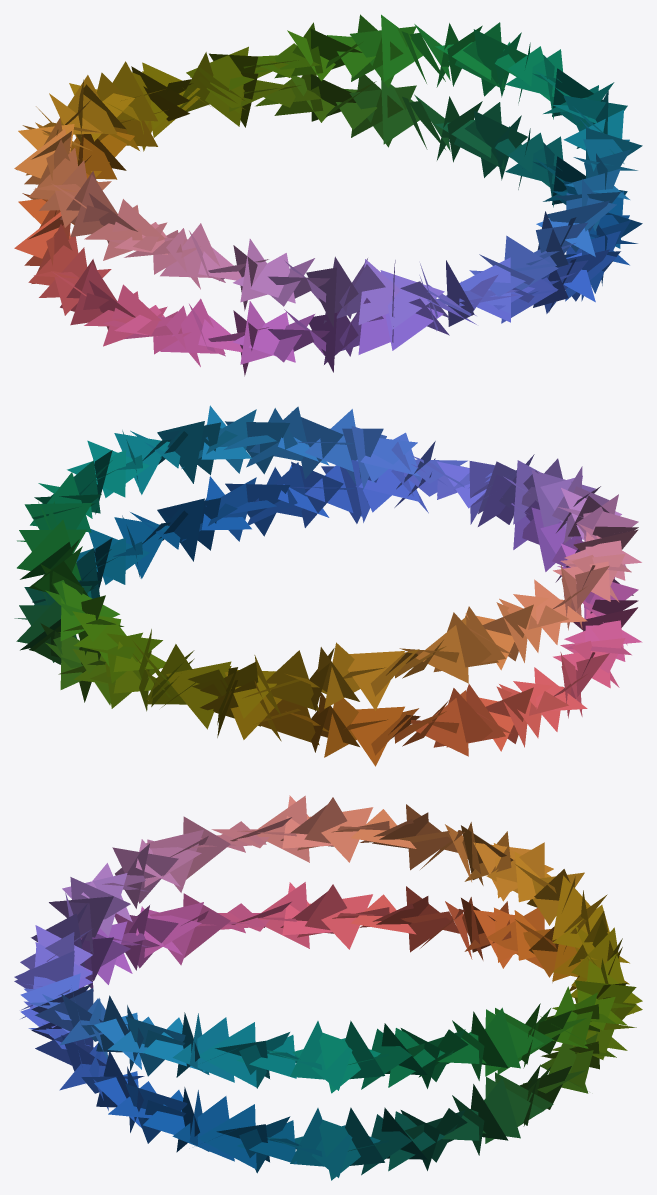
The model's file is Model_Ring256.fbx.
The picture shows the model from 3 angles, top to bottom: view 1: azimuth 30°, elevation 25°; view 2: azimuth 150°, elevation 25°; view 3: azimuth 270°, elevation 25°; orthographic projection.
Visible parts, largest first — view 1: Ring; view 2: Ring; view 3: Ring.
Boxes of the visible parts, x1,y1,x2,y2 form: Ring: [14, 14, 642, 376]; Ring: [14, 405, 642, 766]; Ring: [14, 795, 642, 1180].
Size of the model in its own units: 2.21 by 0.6193 by 2.27.
